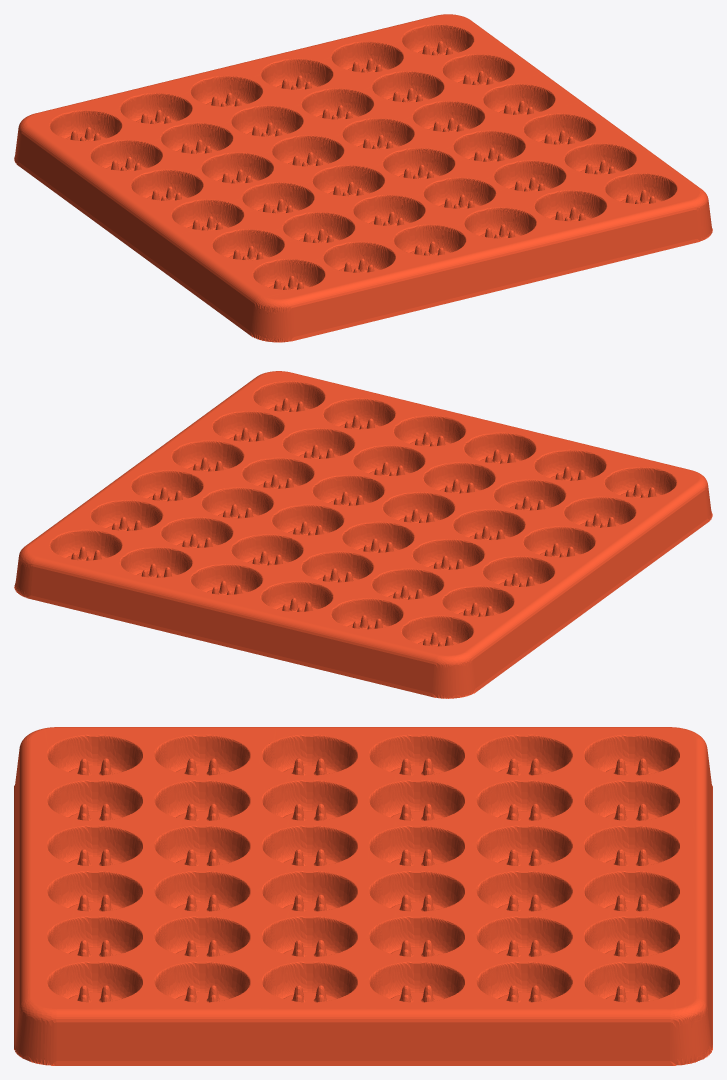
Rendered from mold.glb.
3 views of the same model, one above another, from view 1: azimuth 30°, elevation 25°; view 2: azimuth 150°, elevation 25°; view 3: azimuth 270°, elevation 25° (orthographic). The views are drawn at different scales.
Visible parts, largest first — view 1: geometry_0; view 2: geometry_0; view 3: geometry_0.
Part boxes in pixels (<box>): geometry_0: <box>14,14,712,342</box>; geometry_0: <box>14,371,712,698</box>; geometry_0: <box>14,727,712,1065</box>.
Size of the model in its own units: 0.1447 by 0.0114 by 0.1447.
